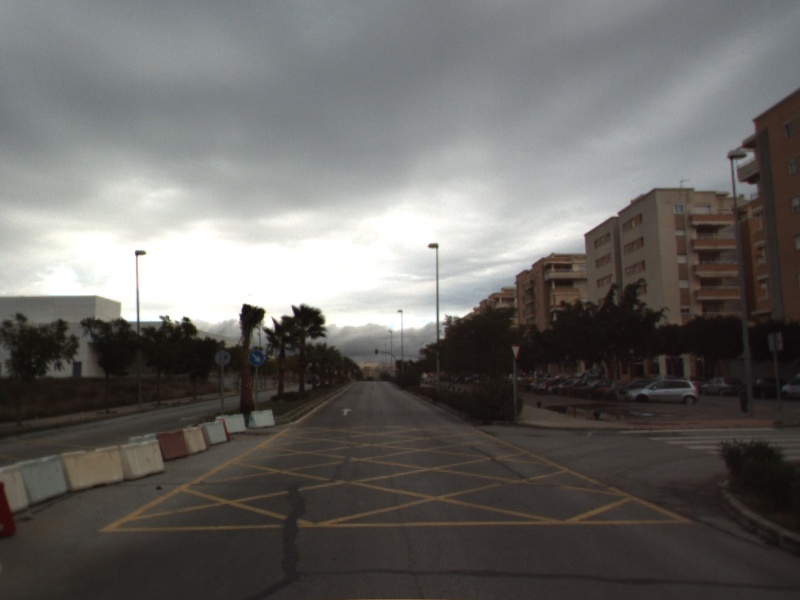STRAIGHT: (338, 406, 355, 417)
